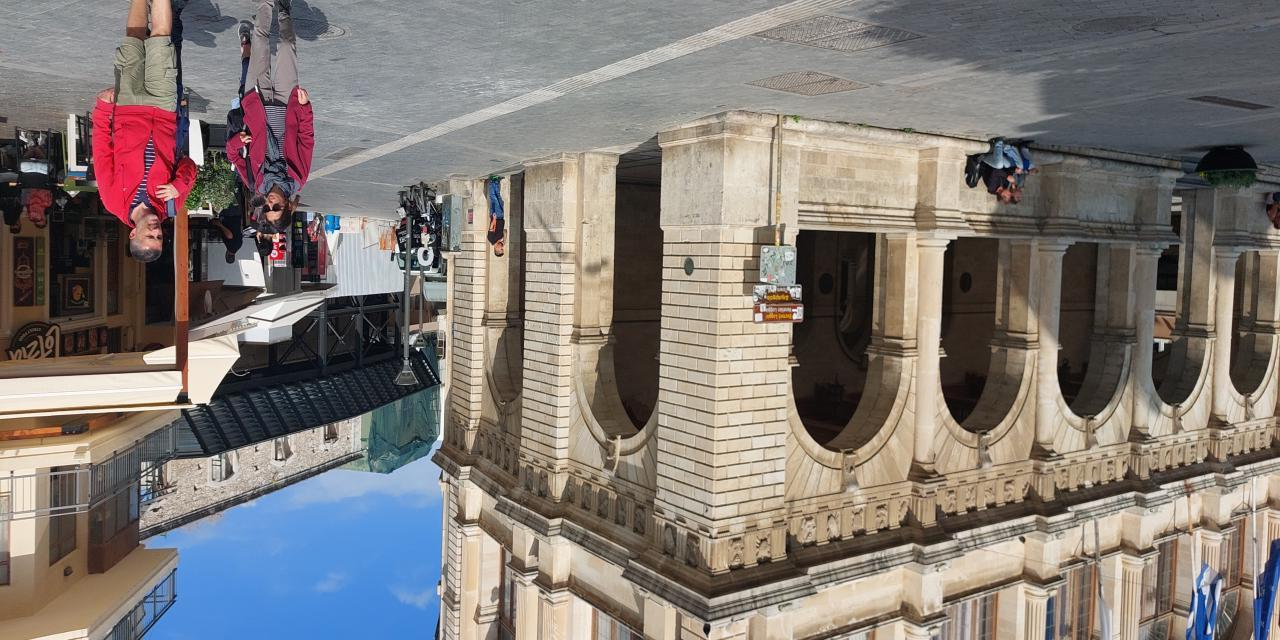Loggia: (401, 112, 1280, 640)
